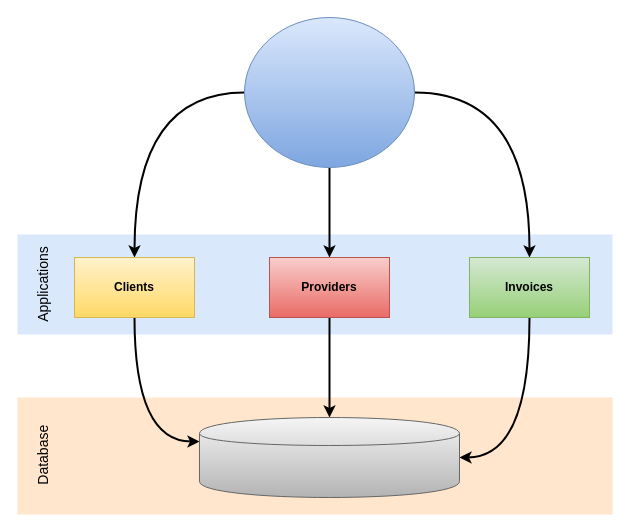
This 629x532 diagram has some shape labels left out. The shapes that lost their labels are listed below. From the top down, each one's centre as x and y in pixels, then its label:
point (329, 92): NETUNO
point (329, 457): Corporate
